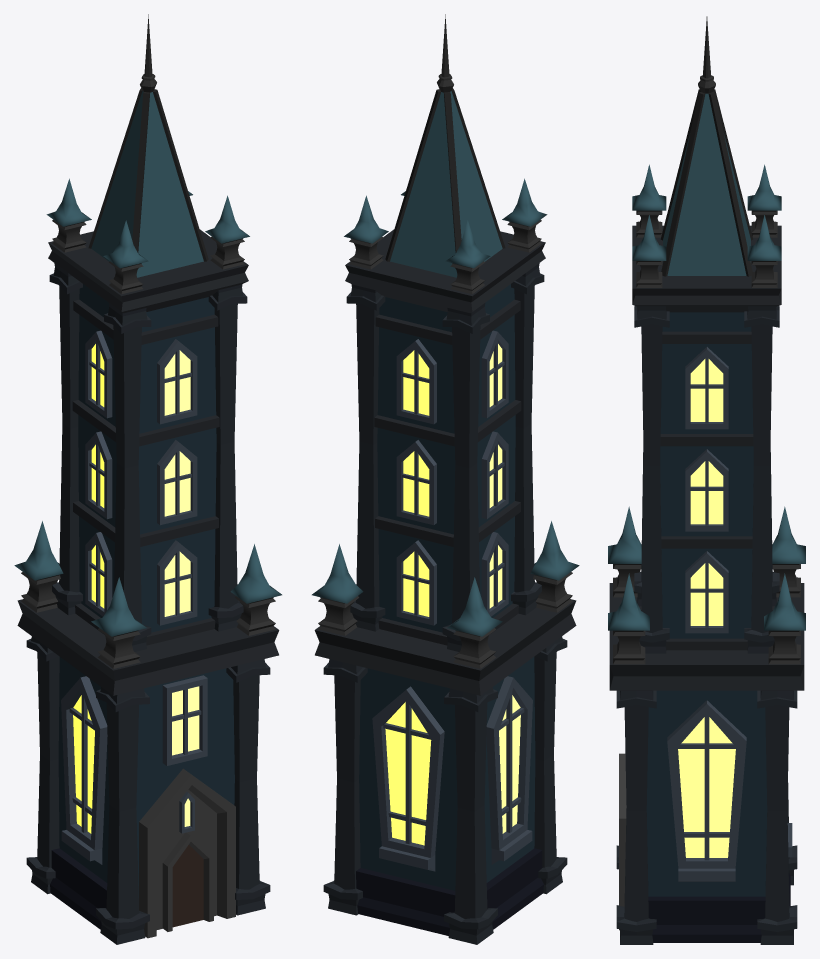
The model's file is pedrio1.fbx.
The picture shows the model from 3 angles, left to right: view 1: azimuth 30°, elevation 25°; view 2: azimuth 150°, elevation 25°; view 3: azimuth 270°, elevation 25°; orthographic projection.
Parts seen in each view (by area): view 1: P1_Pilar01, P1_Parede01, P1_Divisao01, P1_Janela01, P1_Telhado01, P1_PortaContorno01.001, P1_JanelaFundo01, P1_Ponta01, P1_Base01, P1_Porta01; view 2: P1_Pilar01, P1_Parede01, P1_Janela01, P1_Divisao01, P1_Telhado01, P1_JanelaFundo01, P1_Base01, P1_Ponta01; view 3: P1_Parede01, P1_Pilar01, P1_Telhado01, P1_Divisao01, P1_Janela01, P1_JanelaFundo01, P1_Ponta01, P1_Base01, P1_PortaContorno01.001.
Boxes of the visible parts, x1,y1,x2,y2 form: P1_Pilar01: [26, 263, 270, 944]; P1_Parede01: [58, 284, 234, 897]; P1_Divisao01: [17, 229, 279, 695]; P1_Janela01: [61, 330, 207, 864]; P1_Telhado01: [14, 88, 281, 636]; P1_PortaContorno01.001: [139, 768, 235, 938]; P1_JanelaFundo01: [73, 344, 199, 833]; P1_Ponta01: [21, 14, 275, 668]; P1_Base01: [50, 848, 107, 929]; P1_Porta01: [172, 845, 203, 927]; P1_Pilar01: [323, 263, 567, 944]; P1_Parede01: [359, 284, 535, 890]; P1_Janela01: [372, 330, 532, 871]; P1_Divisao01: [314, 229, 576, 695]; P1_Telhado01: [312, 88, 579, 636]; P1_JanelaFundo01: [385, 344, 520, 845]; P1_Base01: [356, 848, 543, 935]; P1_Ponta01: [318, 14, 572, 668]; P1_Parede01: [646, 312, 767, 896]; P1_Pilar01: [616, 306, 797, 944]; P1_Telhado01: [608, 89, 805, 630]; P1_Divisao01: [609, 225, 804, 690]; P1_Janela01: [667, 347, 792, 881]; P1_JanelaFundo01: [678, 359, 735, 857]; P1_Ponta01: [613, 16, 800, 664]; P1_Base01: [648, 873, 790, 942]; P1_PortaContorno01.001: [619, 753, 626, 930].
Size of the model in its own units: 210 by 1034 by 207.
